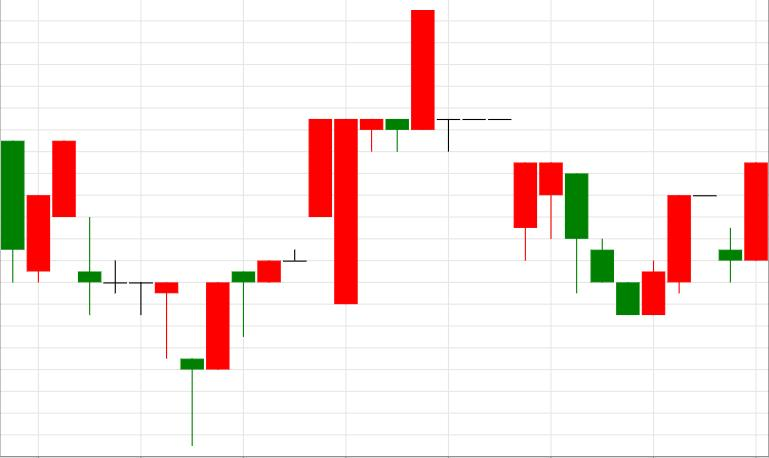bullish_engulfing_rise: (411, 10, 665, 315)
